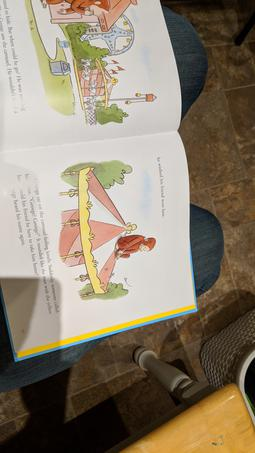text block: (3, 167, 69, 322), (2, 1, 27, 121), (150, 154, 169, 227)
